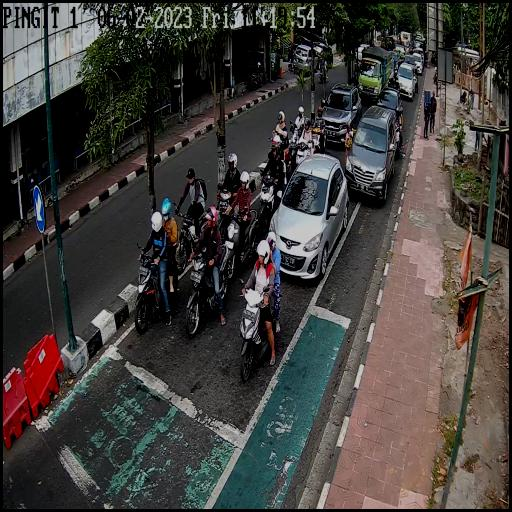mobil: (272, 152, 348, 278), (346, 102, 396, 208), (320, 80, 362, 150), (358, 56, 382, 102), (376, 84, 401, 126), (396, 60, 417, 105)
motor: (236, 268, 280, 379), (184, 240, 229, 346), (132, 244, 178, 338), (222, 206, 260, 274), (257, 173, 282, 233), (216, 180, 236, 239), (294, 137, 311, 179), (310, 123, 328, 159), (394, 112, 404, 157)
